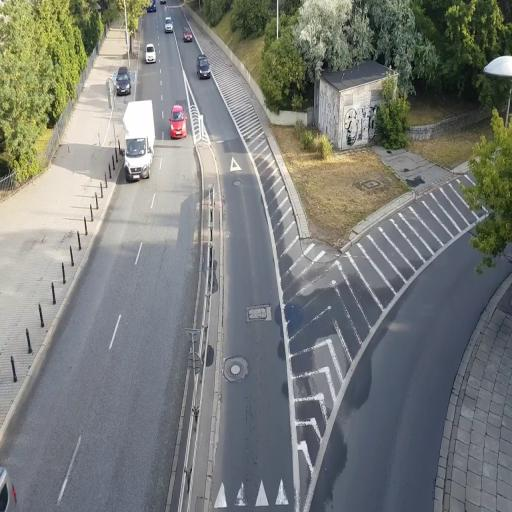vehicle: (122, 100, 155, 182), (170, 103, 186, 138), (114, 68, 132, 95), (196, 54, 212, 80), (144, 44, 156, 64)
